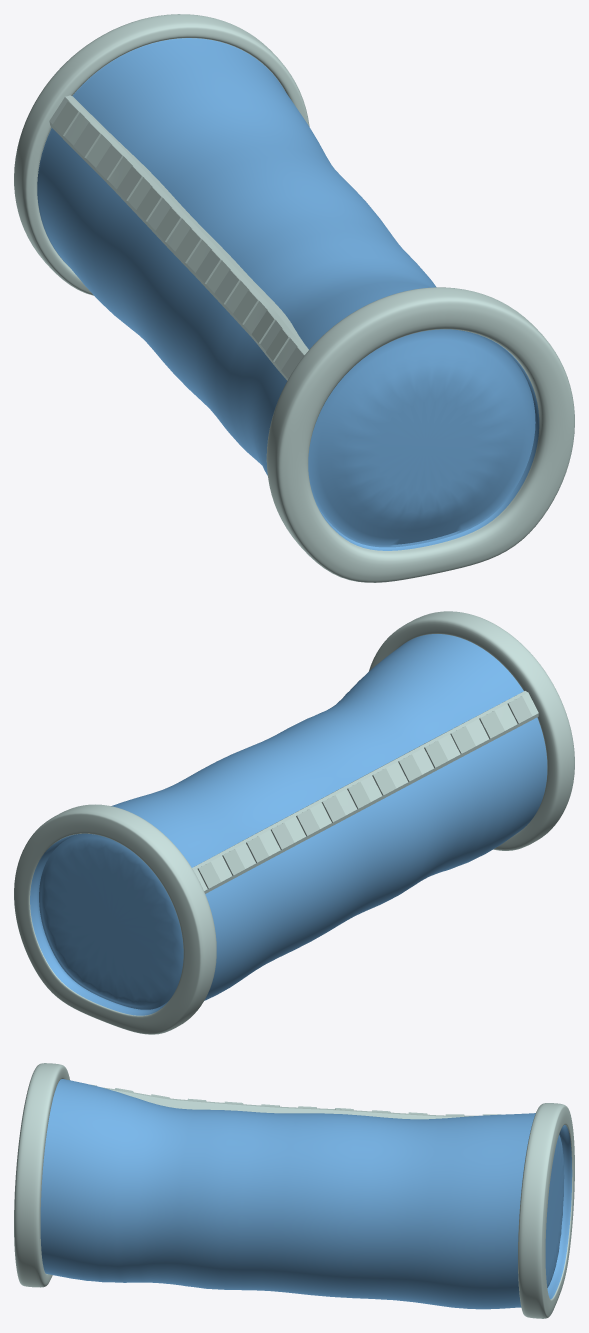
The model's file is Пенал.fbx.
3 views of the same model, one above another, from view 1: azimuth 30°, elevation 25°; view 2: azimuth 150°, elevation 25°; view 3: azimuth 270°, elevation 25° (orthographic). The views are drawn at different scales.
Parts seen in each view (by area): view 1: Cylinder.002; view 2: Cylinder.002; view 3: Cylinder.002.
Boxes of the visible parts, x1,y1,x2,y2 form: Cylinder.002: [14, 14, 574, 582]; Cylinder.002: [14, 611, 574, 1034]; Cylinder.002: [14, 1063, 574, 1318].
Size of the model in its own units: 29.54 by 21.25 by 54.97.
